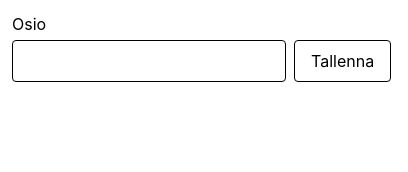
Scenario: FieldForm › shows a message that is not a save, such as not found, and keeps the saved value
Type "Kuljetus" into the field labelled "Osio" at (149, 61), box [12, 40, 286, 82]
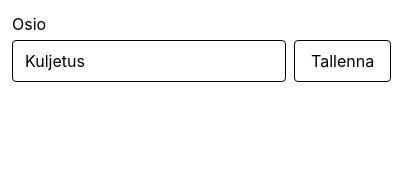
Click the button "Tallenna" at (343, 61), box [294, 40, 391, 82]
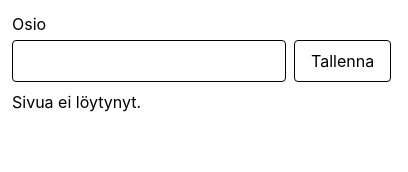
Now the text "Sivua ei löytynyt." is shown, box [12, 92, 141, 112]
